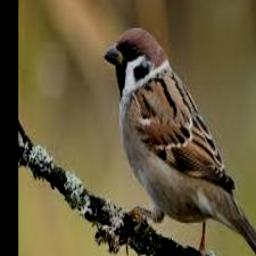Sparrow: (104, 28, 256, 256)
